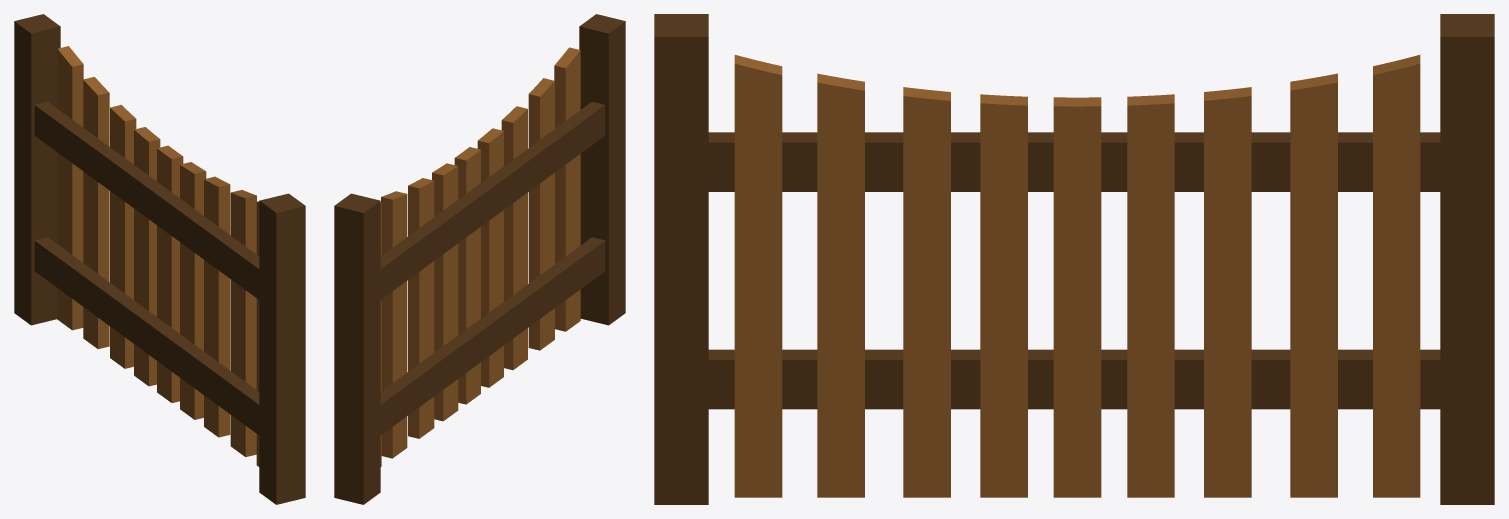
Rendered from Fence_New_4_3.fbx.
3 views of the same model, side by side, from view 1: azimuth 30°, elevation 25°; view 2: azimuth 150°, elevation 25°; view 3: azimuth 270°, elevation 25° (orthographic). The views are drawn at different scales.
Parts seen in each view (by area): view 1: Cube.045, Cube.049; view 2: Cube.045, Cube.049; view 3: Cube.049, Cube.045.
Boxes of the visible parts, x1,y1,x2,y2 form: Cube.045: (14,14,305,504); Cube.049: (57,46,259,466); Cube.045: (334,14,625,504); Cube.049: (380,47,580,466); Cube.049: (734,55,1420,497); Cube.045: (654,14,1494,504).
Size of the model in its own units: 26.38 by 234 by 381.
